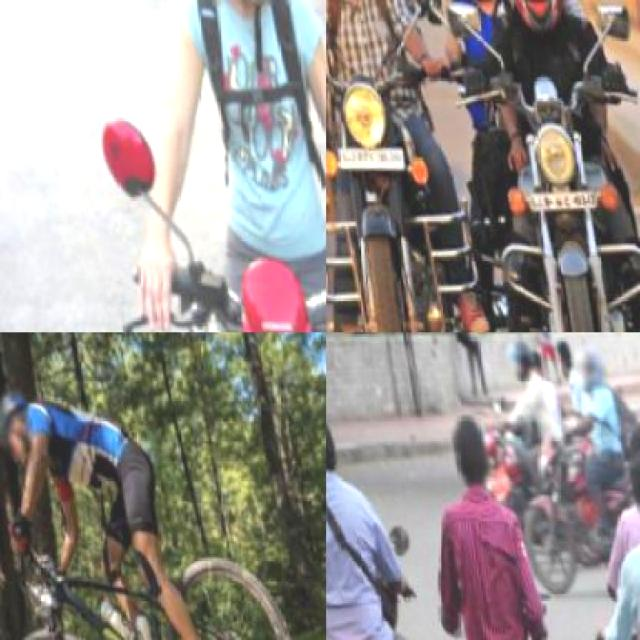With Helmet: (0, 378, 37, 460), (481, 0, 573, 32), (572, 338, 608, 387), (501, 332, 534, 380)
Without Helmet: (445, 408, 493, 486), (622, 436, 638, 524), (326, 402, 336, 469)
